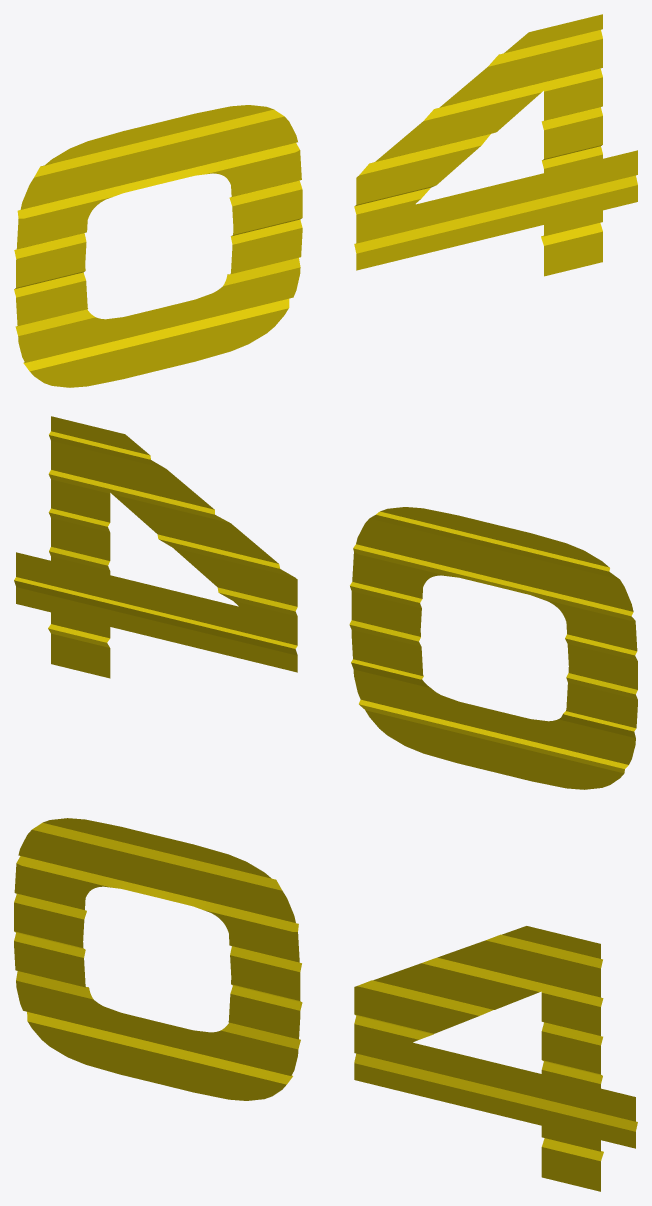
The model's file is SharedDecalGymDoorA.fbx.
3 views of the same model, one above another, from view 1: azimuth 30°, elevation 25°; view 2: azimuth 150°, elevation 25°; view 3: azimuth 330°, elevation 25° (orthographic).
Visible parts, largest first — view 1: SharedDecalGymDoorA001; view 2: SharedDecalGymDoorA001; view 3: SharedDecalGymDoorA001.
Boxes of the visible parts, x1,y1,x2,y2 form: SharedDecalGymDoorA001: [14, 14, 637, 387]; SharedDecalGymDoorA001: [14, 416, 637, 789]; SharedDecalGymDoorA001: [14, 818, 637, 1191].
Size of the model in its own units: 231 by 88.23 by 1.98.
